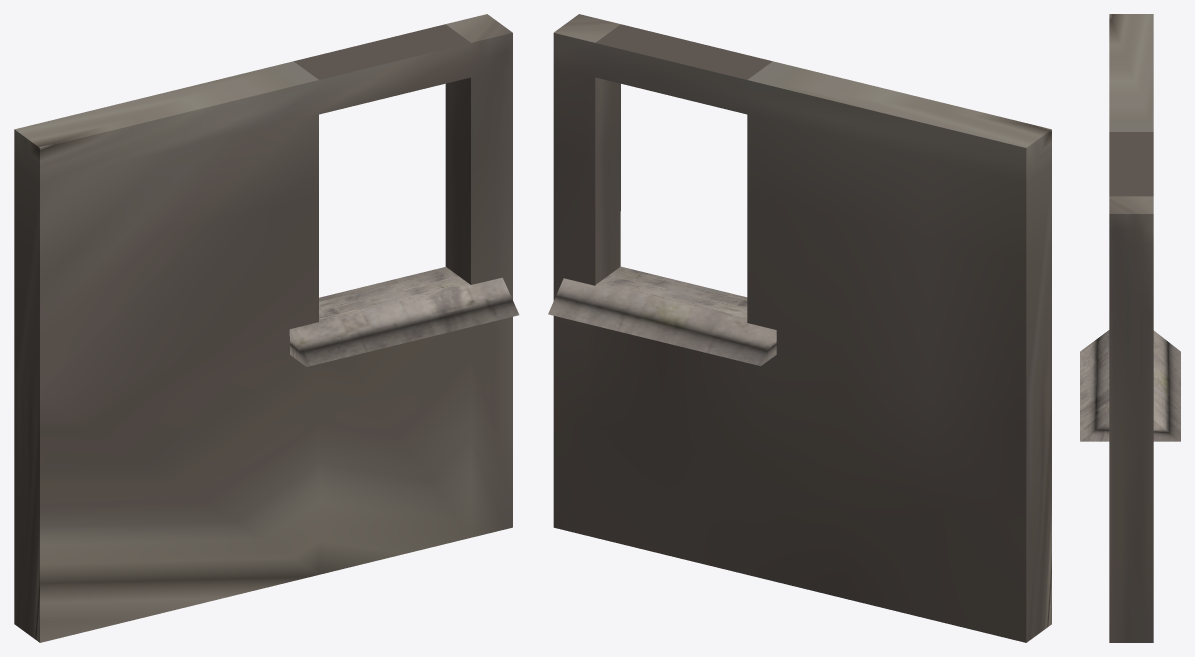
The model's file is stair_wall_single_top.glb.
3 views of the same model, side by side, from view 1: azimuth 30°, elevation 25°; view 2: azimuth 150°, elevation 25°; view 3: azimuth 270°, elevation 25° (orthographic). The views are drawn at different scales.
Visible parts, largest first — view 1: stair_wall_single_top; view 2: stair_wall_single_top; view 3: stair_wall_single_top.
Part boxes in pixels (box(x1,y1,x2,y2)): stair_wall_single_top: box(14, 14, 519, 642); stair_wall_single_top: box(548, 14, 1051, 642); stair_wall_single_top: box(1080, 14, 1180, 642).
Bounding box in the file's own units: 8 × 8 × 1.7.
Materials: 2 (2 with a texture image).
